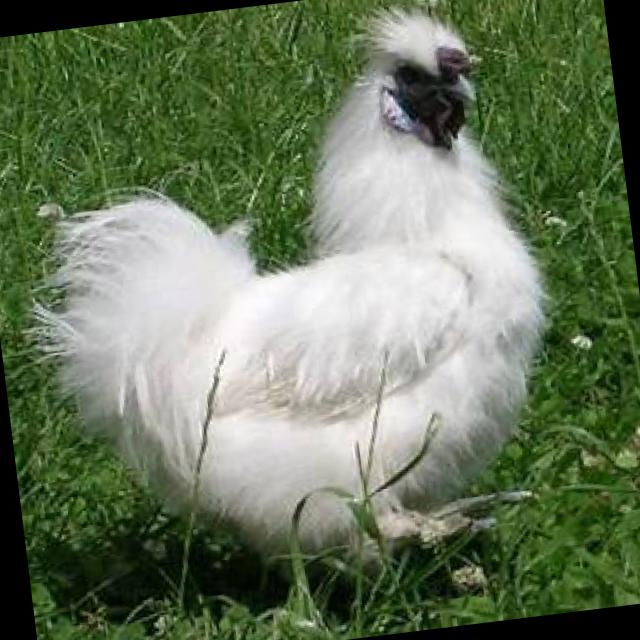animal: (14, 3, 575, 582)
